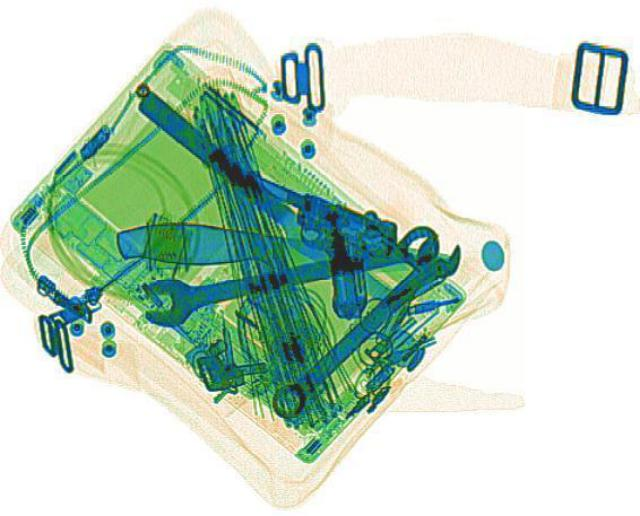Gun: (187, 170, 413, 318)
Knife: (129, 86, 411, 316), (114, 219, 450, 273)
Wrench: (252, 228, 476, 424), (130, 218, 446, 328)
